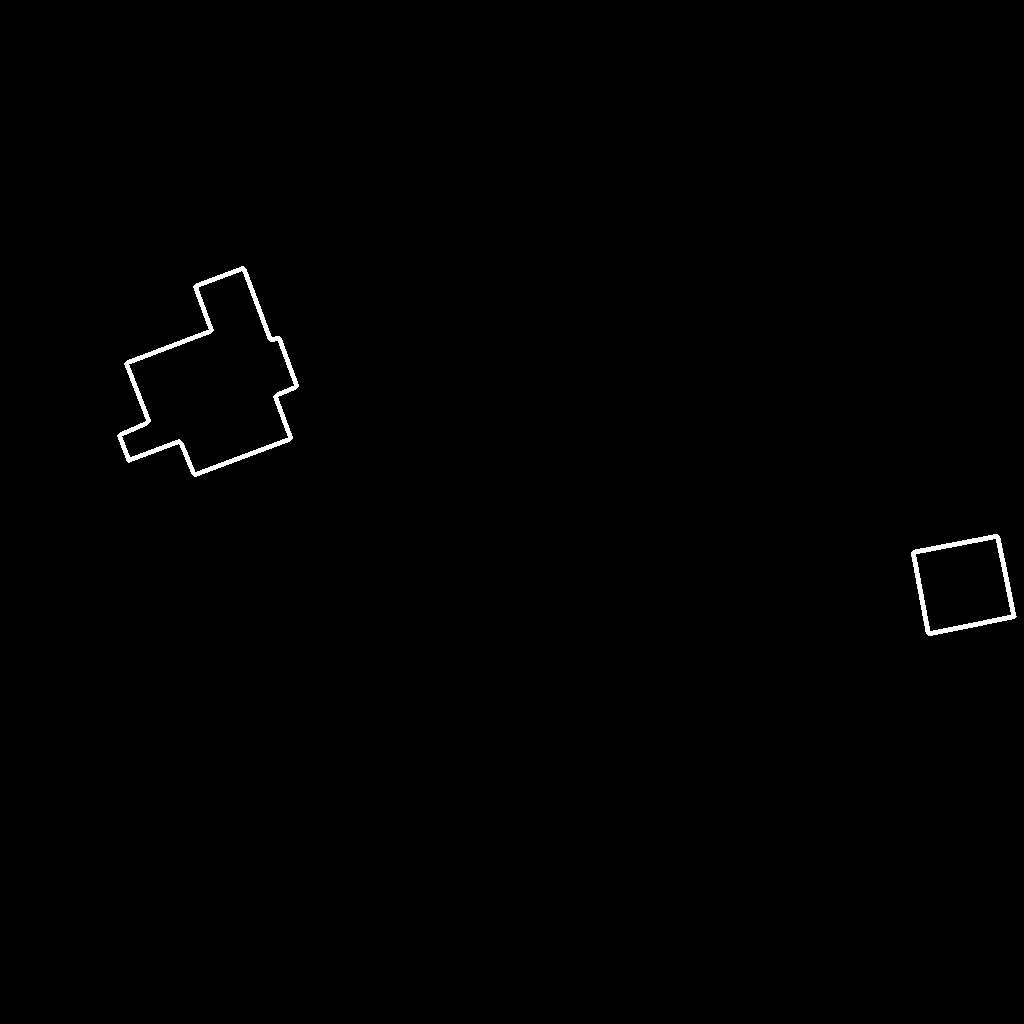building: (119, 268, 298, 476), (913, 536, 1015, 635)
